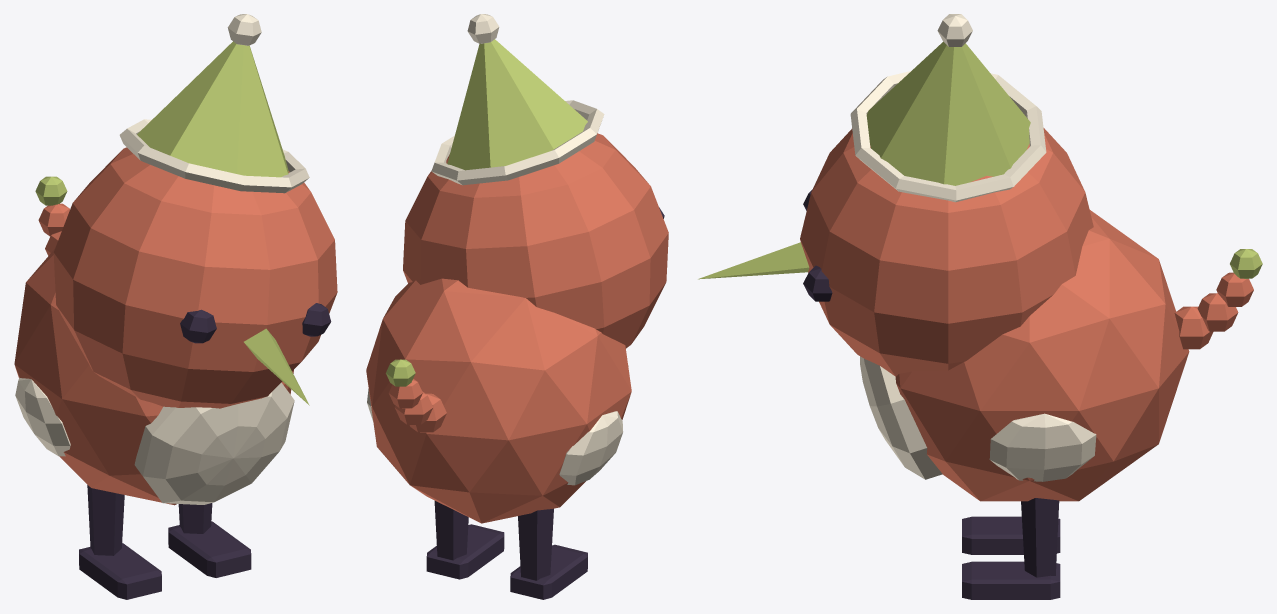
Rendered from bird-park-2.glb.
3 views of the same model, side by side, from view 1: azimuth 30°, elevation 25°; view 2: azimuth 150°, elevation 25°; view 3: azimuth 270°, elevation 25° (orthographic). The views are drawn at different scales.
Parts seen in each view (by area): view 1: bird-park-2; view 2: bird-park-2; view 3: bird-park-2.
Boxes of the visible parts, x1,y1,x2,y2 form: bird-park-2: [14, 14, 337, 599]; bird-park-2: [366, 14, 668, 599]; bird-park-2: [698, 14, 1262, 599].
Size of the model in its own units: 0.4153 by 0.9 by 0.7951.
